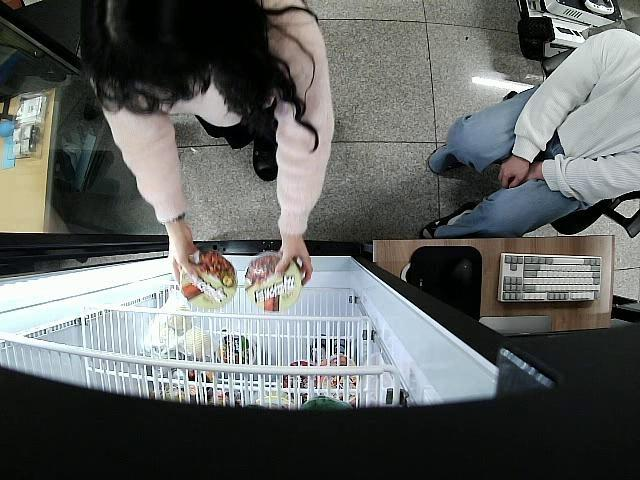03_chapagetti_L: (178, 251, 238, 310), (246, 251, 301, 314)
